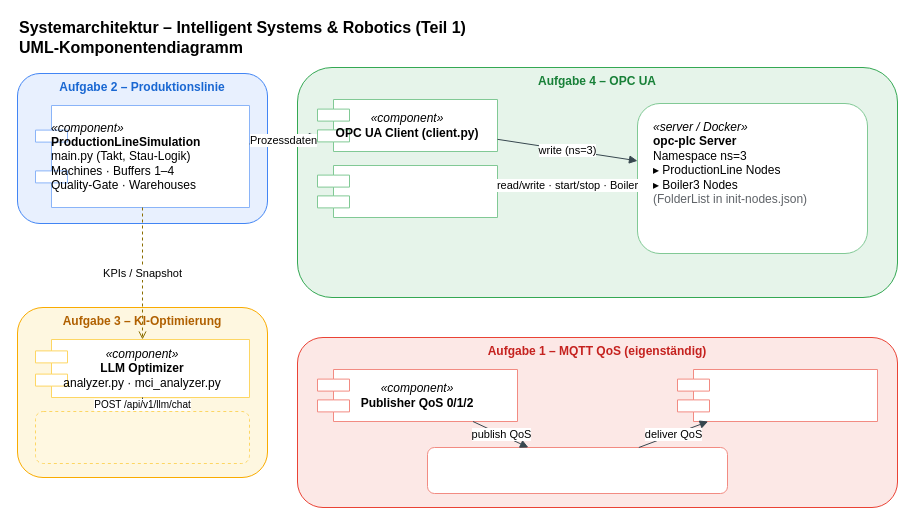
The diagram is 915 pixels wide and 525 high, and some of its shapes have lost their labels. The centre of each missing label's shape, as x and y in pixels:
«broker» MQTT Broker (Mosquitto / HiveMQ): the point at 577,470
«component» rw_tool CLI (read/write): the point at 407,191
«component» Subscriber QoS 0/1/2: the point at 777,395
«external» MCI / OpenAI LLM API: the point at 142,437
